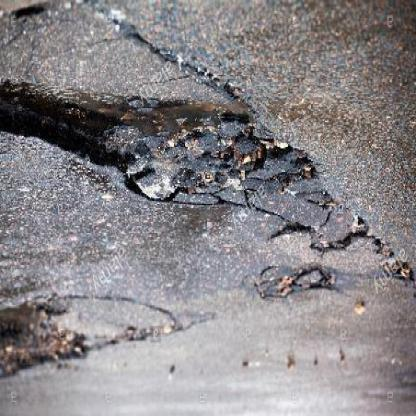pothole: (2, 6, 416, 291), (2, 299, 95, 382), (255, 265, 341, 305)
